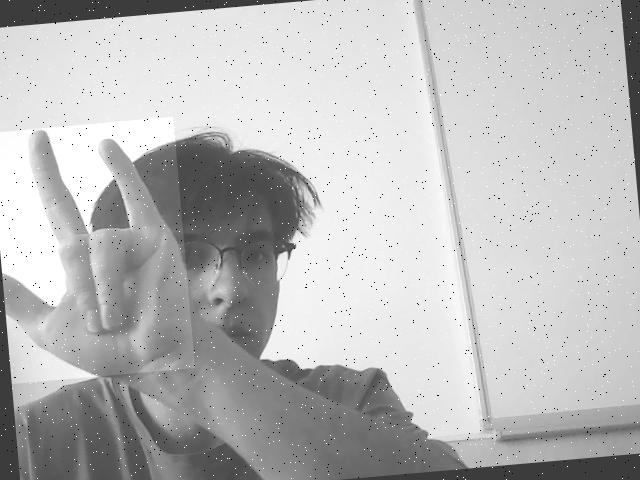I_Love_You: (0, 116, 194, 384)
